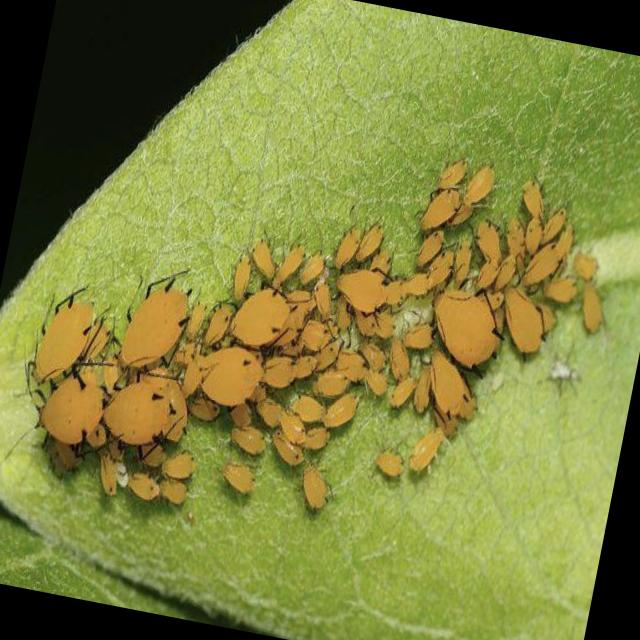aphid: (102, 258, 200, 389), (417, 280, 514, 382), (86, 366, 188, 462), (24, 281, 107, 388), (23, 375, 112, 462), (223, 269, 305, 355), (191, 338, 271, 412), (493, 282, 553, 359), (414, 346, 474, 422), (329, 262, 398, 322), (516, 236, 571, 299), (414, 179, 465, 241), (404, 418, 449, 481), (293, 459, 337, 515), (458, 158, 501, 214), (329, 218, 368, 278), (318, 384, 363, 436), (224, 415, 274, 461), (200, 297, 240, 354), (223, 248, 260, 308), (242, 236, 285, 286), (421, 244, 459, 297), (284, 388, 334, 428), (256, 348, 306, 388), (296, 244, 334, 294), (216, 458, 261, 498), (399, 313, 438, 356), (123, 467, 164, 506), (371, 445, 408, 483), (385, 376, 416, 410)
